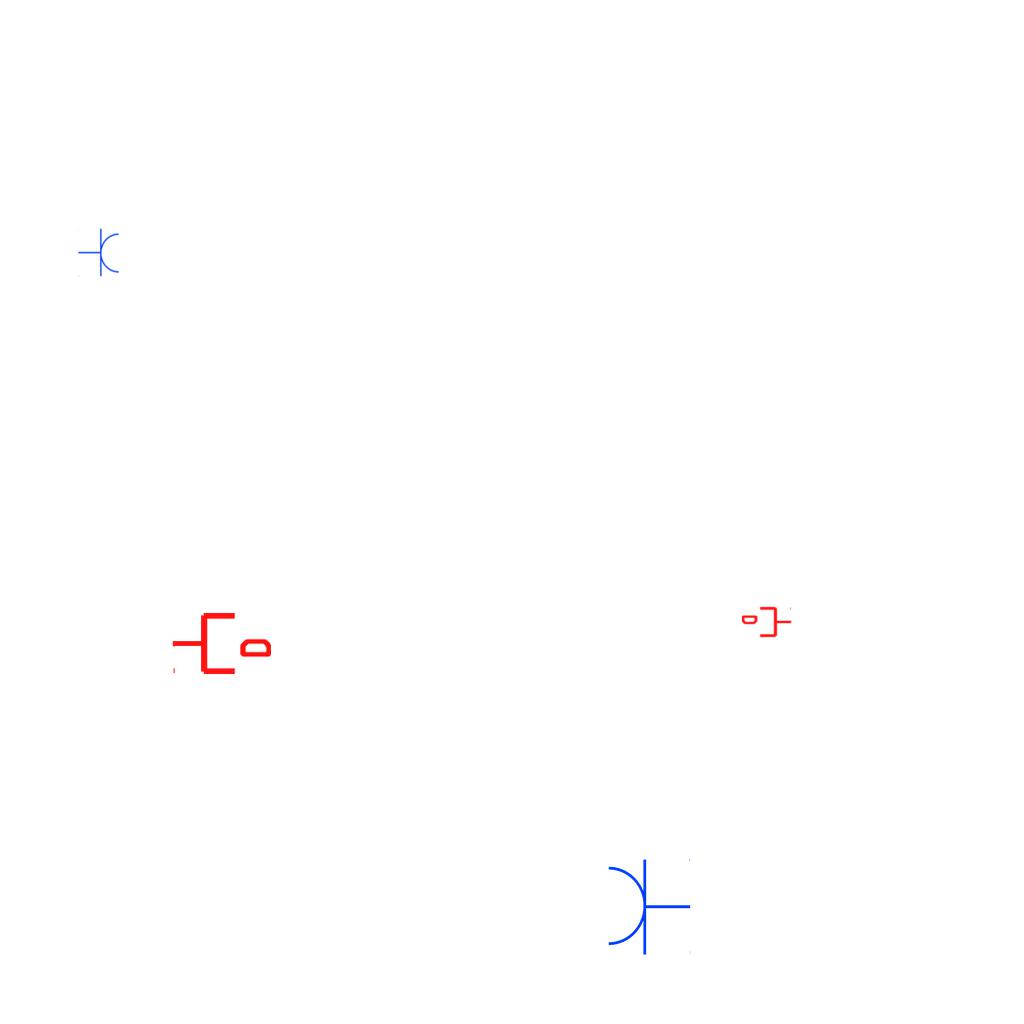Datenanschluss_einfach: (171, 609, 271, 678), (742, 605, 792, 639)
Schukosteckdose_einfach: (604, 856, 691, 956), (78, 228, 121, 278)
